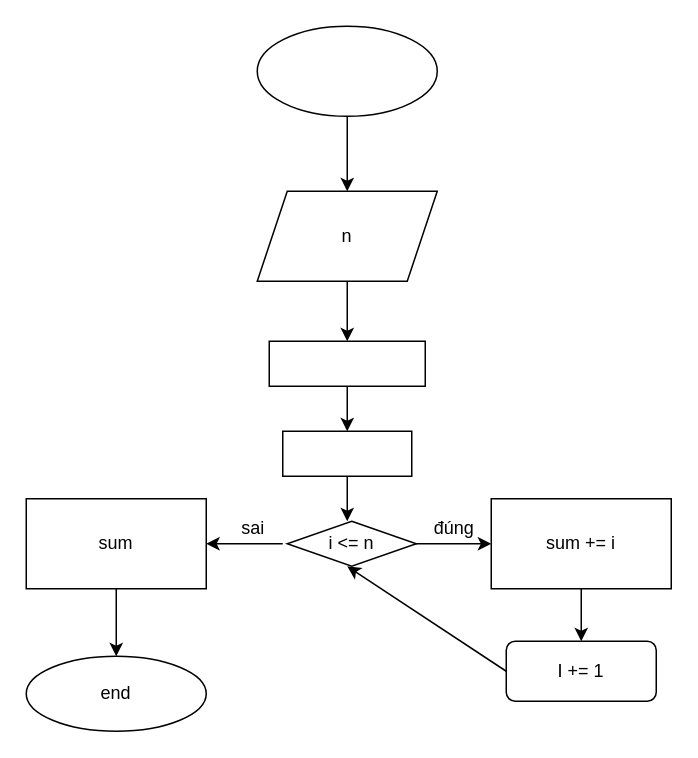
The diagram is 698 pixels wide and 758 high, and some of its shapes have lost their labels. Here are the shapes that lost their labels. From the top down, the centre of each, then its label:
At point 346,70: "start".
At point 346,363: "i = 1".
At point 346,453: "sum = 0".
